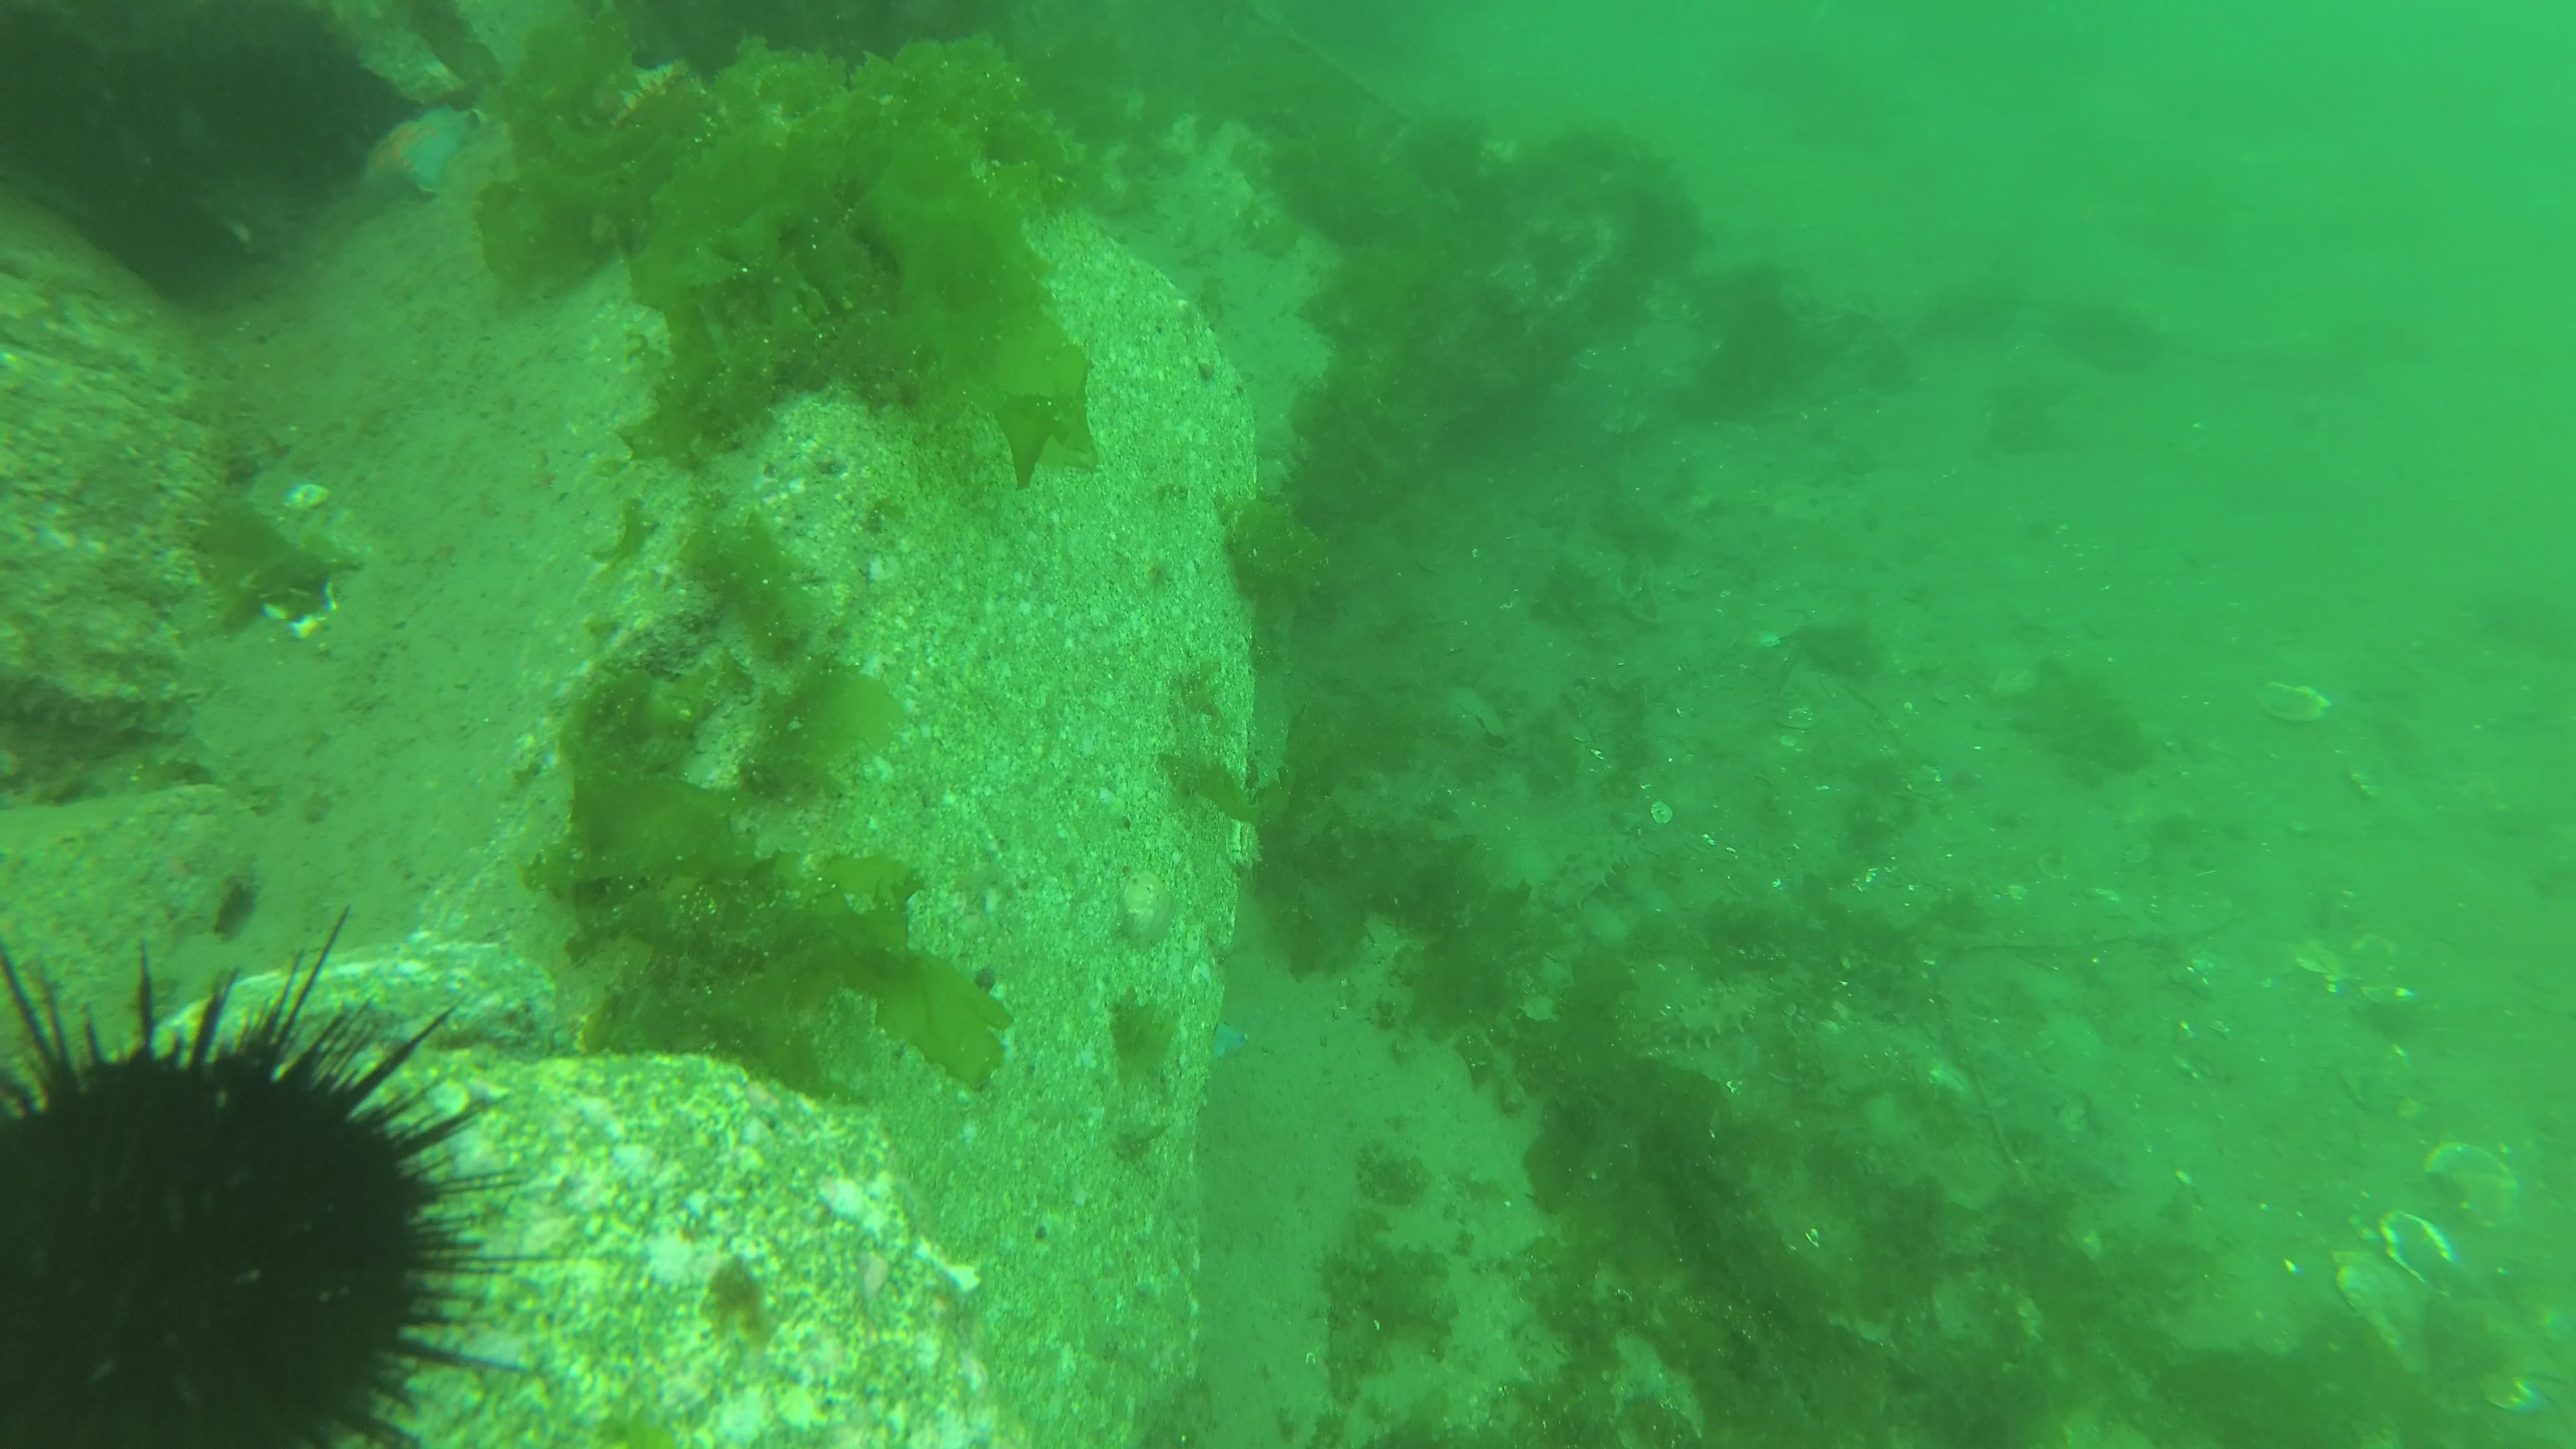echinus: (2, 904, 559, 1449)
holothurian: (1534, 817, 1638, 918), (1647, 973, 1769, 1058)
starfish: (347, 103, 483, 212)
